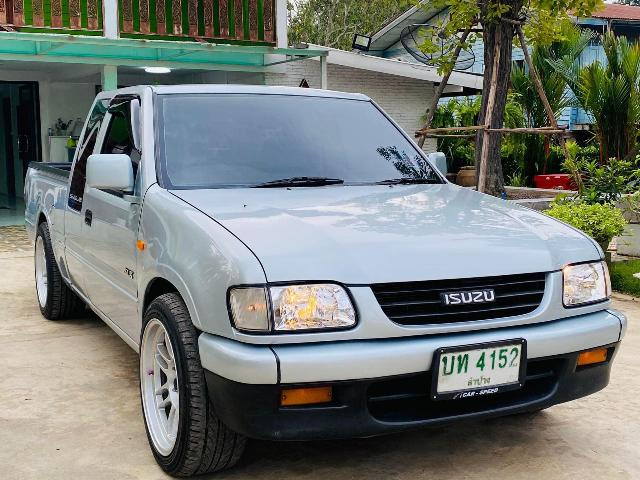pickup-truck: (15, 74, 630, 480)
